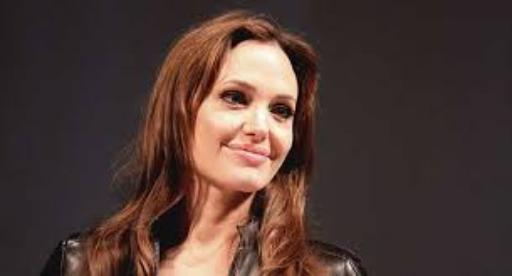left_eye: (272, 107, 297, 122)
left_lip_corner: (263, 151, 274, 164)
right_eye: (220, 88, 248, 110)
right_lip_corner: (220, 141, 235, 155)
